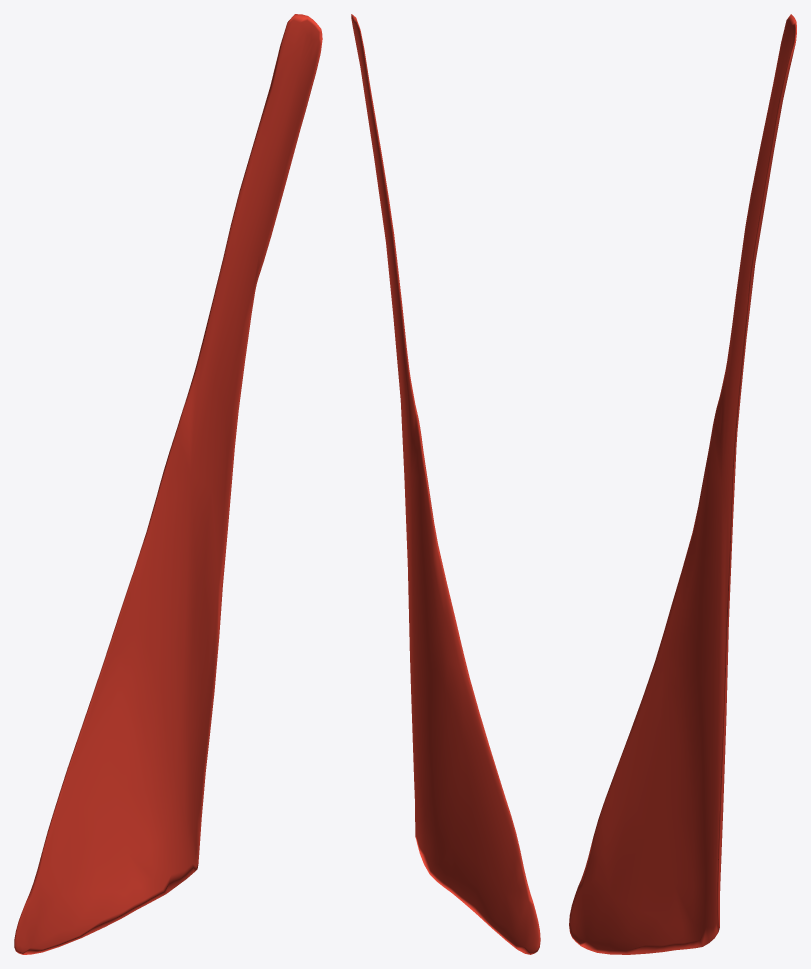
Rendered from Medial_head_of_triceps_brachii-Humeral_insertion.r_Generated_Me.glb.
3 views of the same model, side by side, from view 1: azimuth 30°, elevation 25°; view 2: azimuth 150°, elevation 25°; view 3: azimuth 330°, elevation 25° (orthographic). The views are drawn at different scales.
Parts seen in each view (by area): view 1: Medial_head_of_triceps_brachii-Humeral_insertion.r_Generated; view 2: Medial_head_of_triceps_brachii-Humeral_insertion.r_Generated; view 3: Medial_head_of_triceps_brachii-Humeral_insertion.r_Generated.
Boxes of the visible parts, <box> form: Medial_head_of_triceps_brachii-Humeral_insertion.r_Generated: <box>14,14,322,954</box>; Medial_head_of_triceps_brachii-Humeral_insertion.r_Generated: <box>351,14,540,954</box>; Medial_head_of_triceps_brachii-Humeral_insertion.r_Generated: <box>569,14,796,954</box>.
Size of the model in its own units: 0.0559 by 0.1925 by 0.0217.
